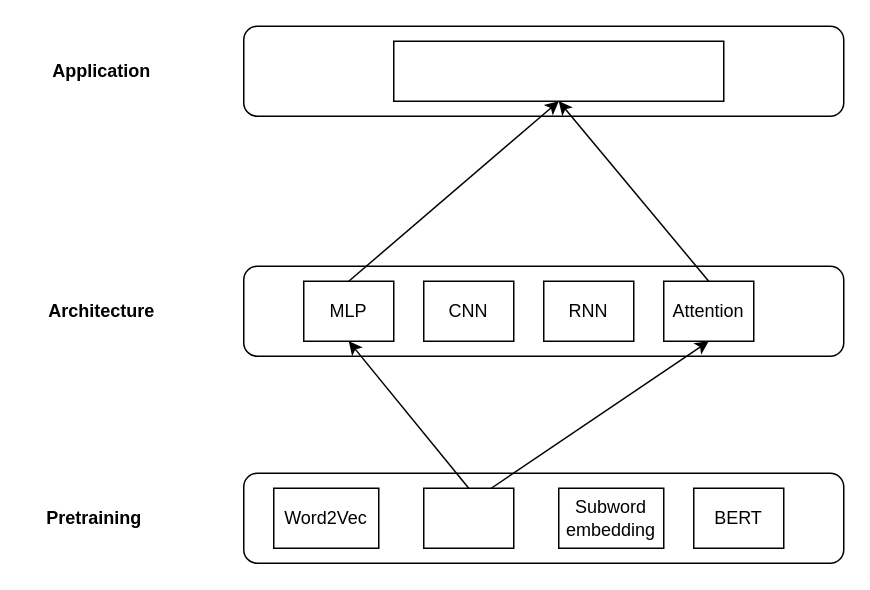
The diagram is 870 pixels wide and 590 high, and some of its shapes have lost their labels. Here are the shapes that lost their labels. From the top down, the centre of each, then its label:
At pixel 558 70: "Natural Language inference (text pairs)".
At pixel 468 517: "GloVe".
